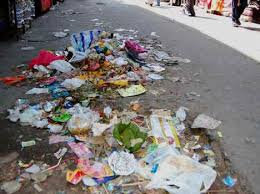garbage: (10, 109, 221, 194), (60, 29, 160, 194), (26, 53, 161, 162), (72, 32, 168, 82)
